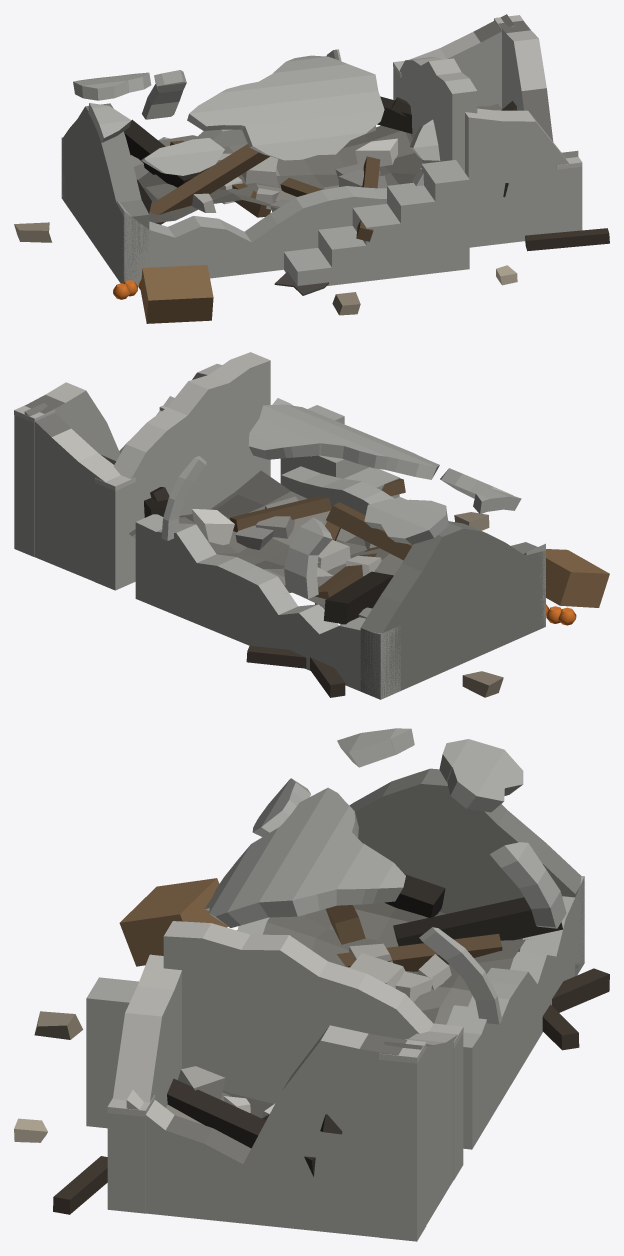
Rendered from VerHut05a.glb.
The picture shows the model from 3 angles, top to bottom: view 1: azimuth 30°, elevation 25°; view 2: azimuth 150°, elevation 25°; view 3: azimuth 270°, elevation 25°; orthographic projection. The views are drawn at different scales.
Visible parts, largest first — view 1: VerHut05a_plaster; view 2: VerHut05a_plaster; view 3: VerHut05a_plaster.
Boxes of the visible parts, x1,y1,x2,y2 form: VerHut05a_plaster: (14,14,609,323); VerHut05a_plaster: (14,352,609,699); VerHut05a_plaster: (14,728,609,1241).
Bounding box in the file's own units: 6.33 × 1.99 × 4.79.
